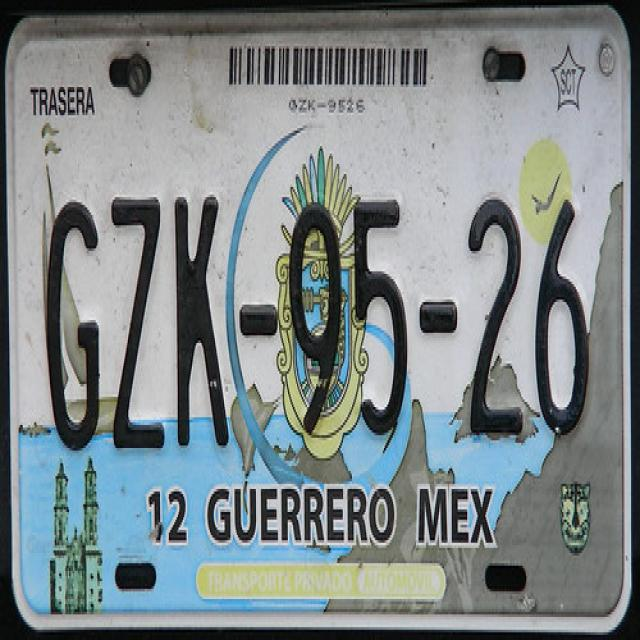placa: (11, 171, 626, 479)
